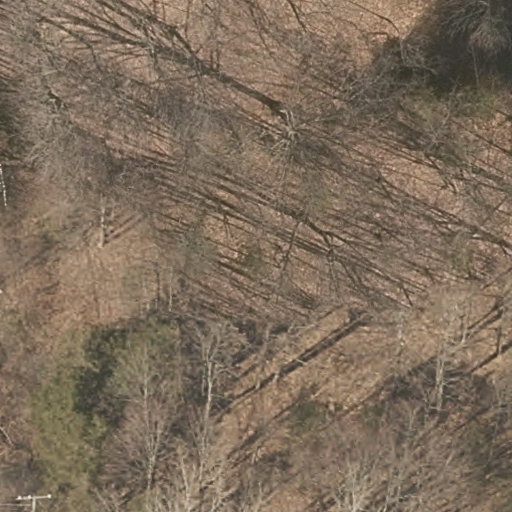DT: (9, 489, 55, 508)
